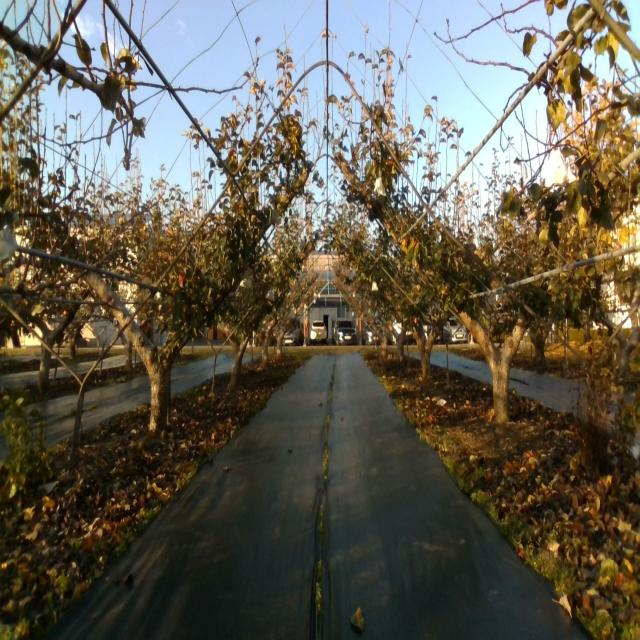pearbags: (546, 150, 576, 189), (0, 226, 18, 266), (374, 176, 386, 197)
